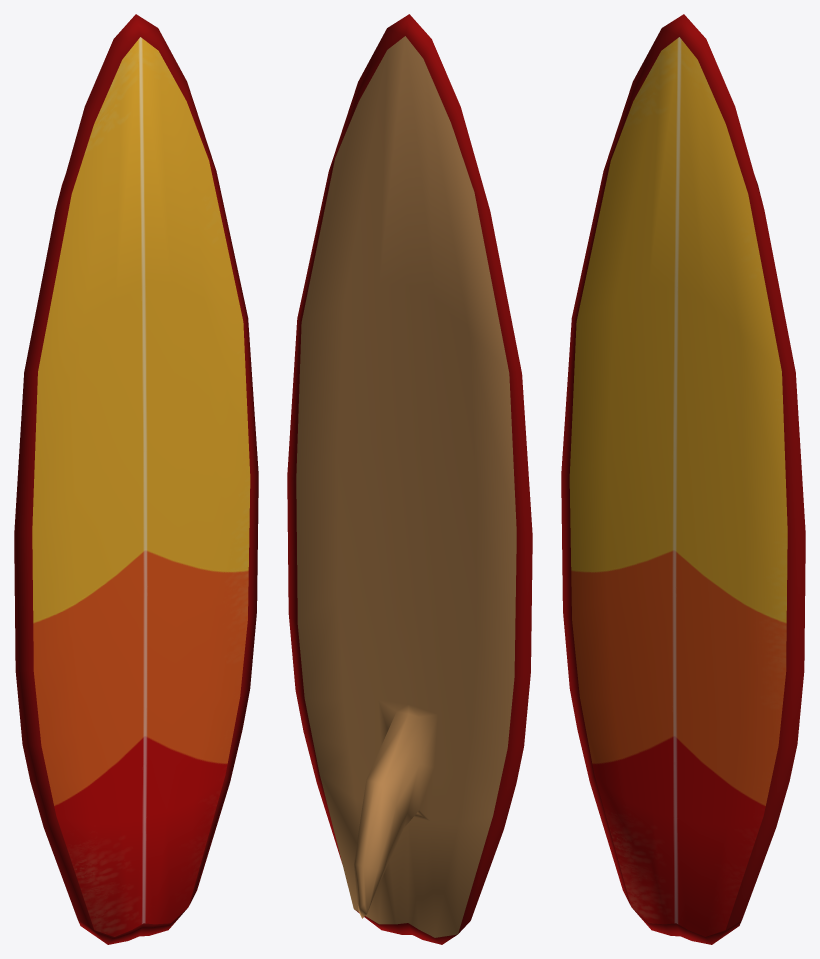
The model's file is Surf1.obj.
3 renders of one model, left to right at view 1: azimuth 30°, elevation 25°; view 2: azimuth 150°, elevation 25°; view 3: azimuth 330°, elevation 25°, orthographic.
Visible parts, largest first — view 1: Cube_Cube.001; view 2: Cube_Cube.001; view 3: Cube_Cube.001.
Part boxes in pixels (bbox=[...]): Cube_Cube.001: bbox=[14, 14, 258, 944]; Cube_Cube.001: bbox=[287, 14, 532, 944]; Cube_Cube.001: bbox=[561, 14, 805, 944].
Size of the model in its own units: 0.5694 by 2.05 by 0.2423.
